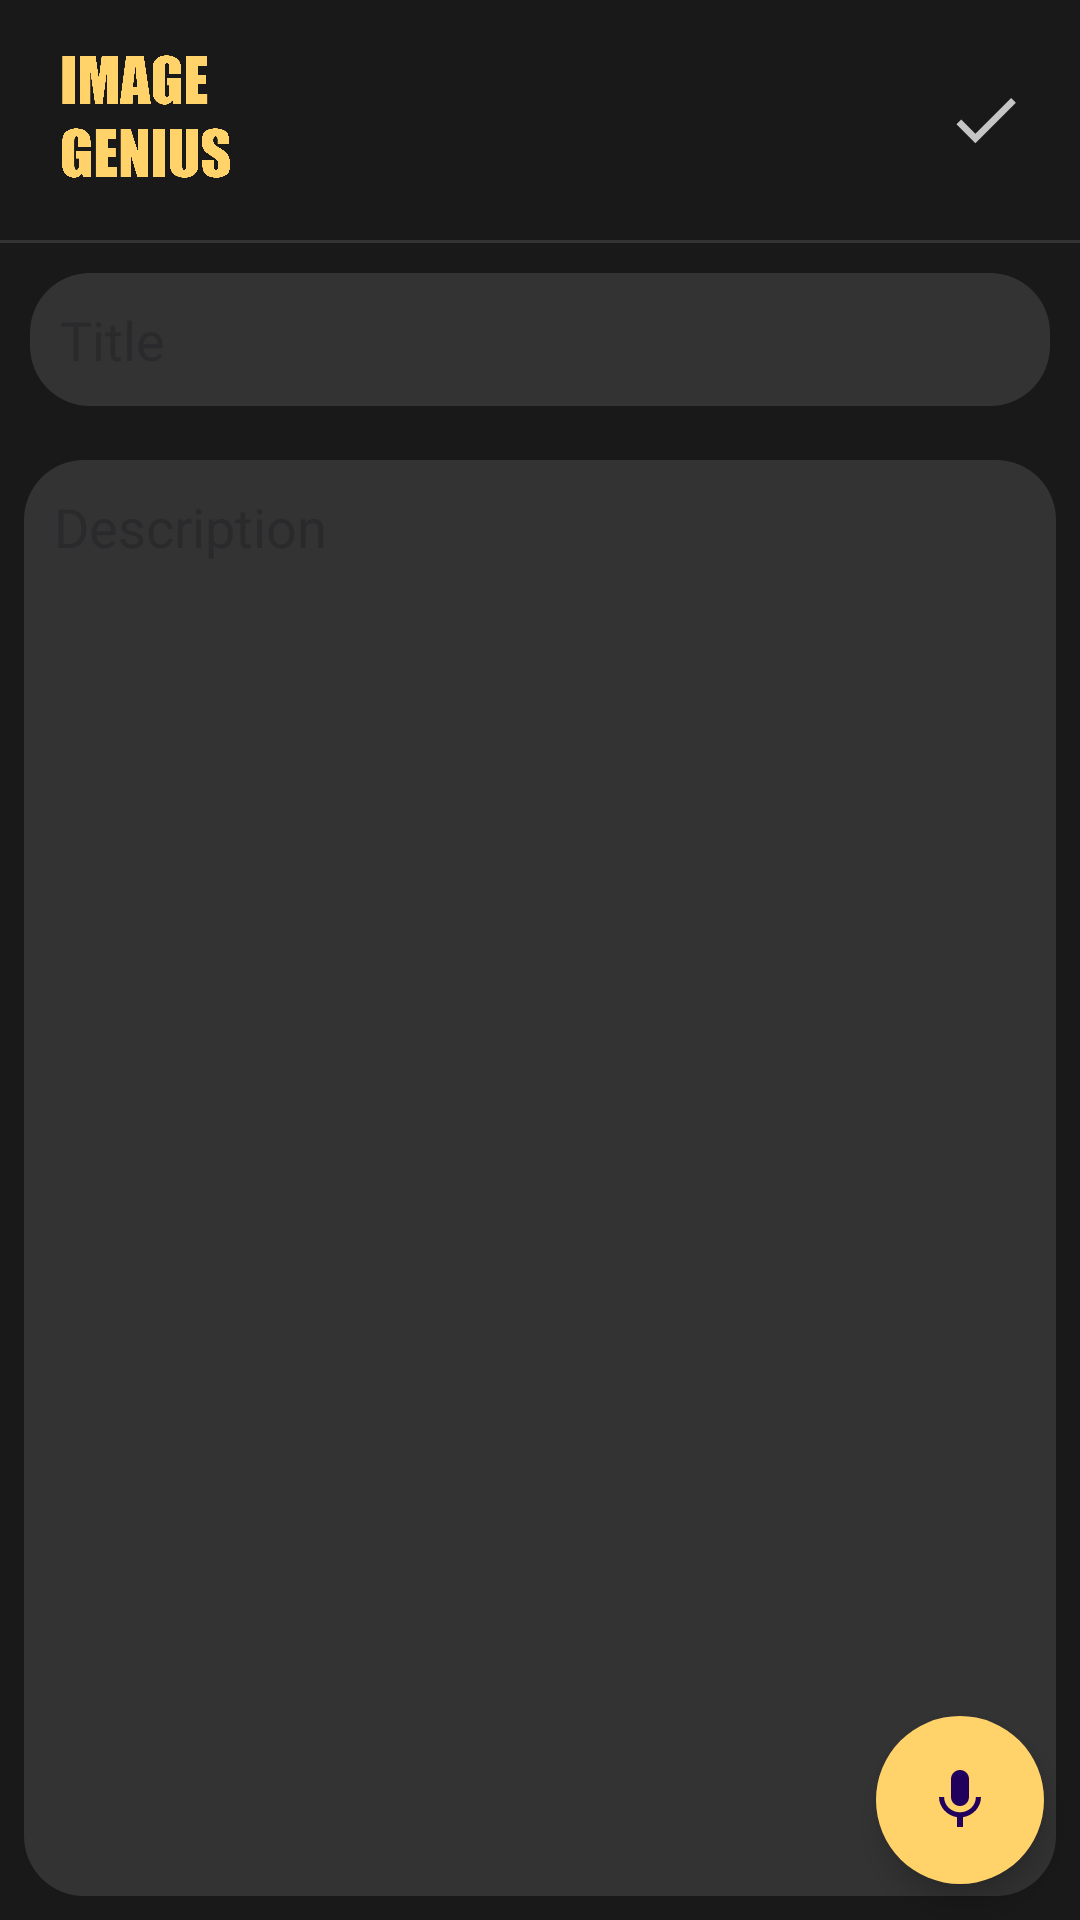

Screen size 1080 × 1920. Icon name, then its center in pixels as point (x, y):
done: point (986, 120)
mic: point (960, 1800)
